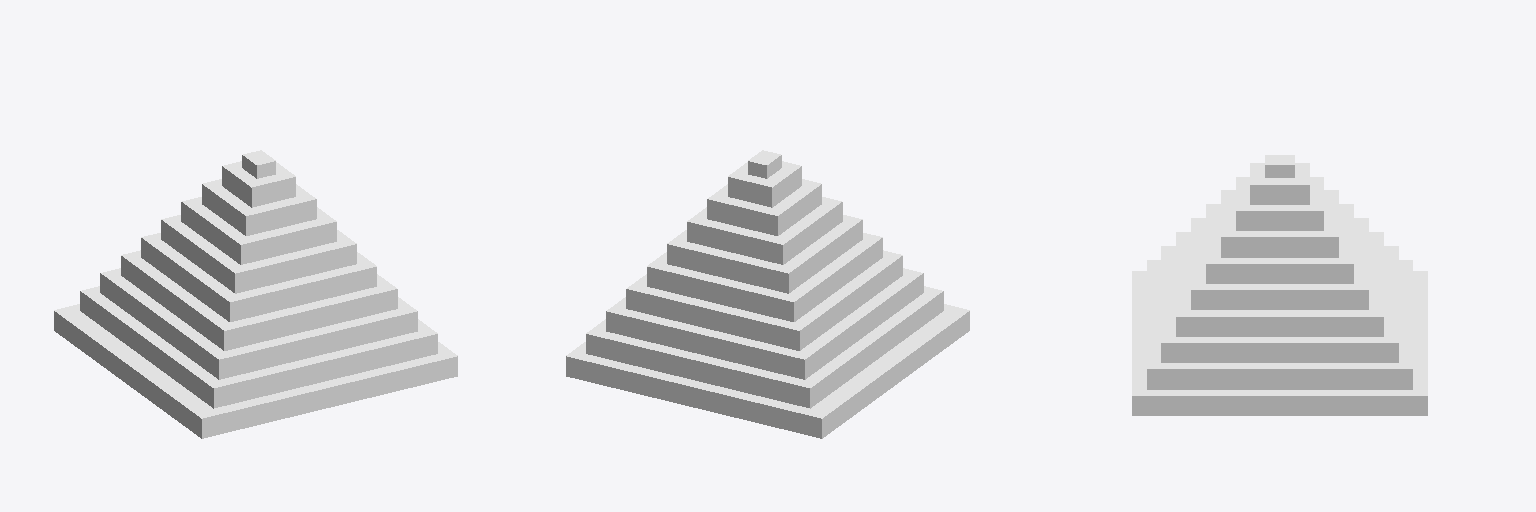
File: fullPyramid.obj
The picture shows the model from 3 angles: view 1: azimuth 30°, elevation 25°; view 2: azimuth 150°, elevation 25°; view 3: azimuth 270°, elevation 25°; orthographic projection.
Bounding box in the file's own units: 40 × 29 × 40.